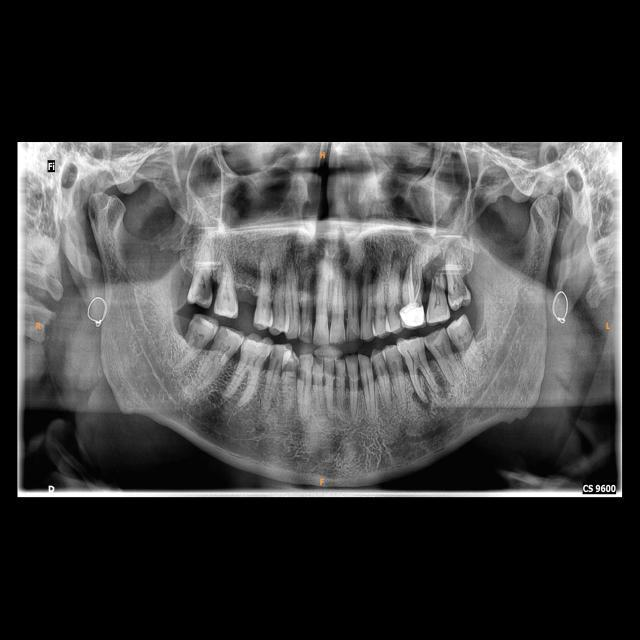dentin-curugu: (196, 272, 215, 304), (452, 275, 472, 300)
kanal-tedavisi: (401, 256, 425, 304)
kaplama: (399, 305, 428, 328)
kok-enfeksiyonu: (409, 378, 452, 413)
